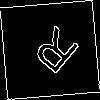R: (25, 25, 82, 83)
